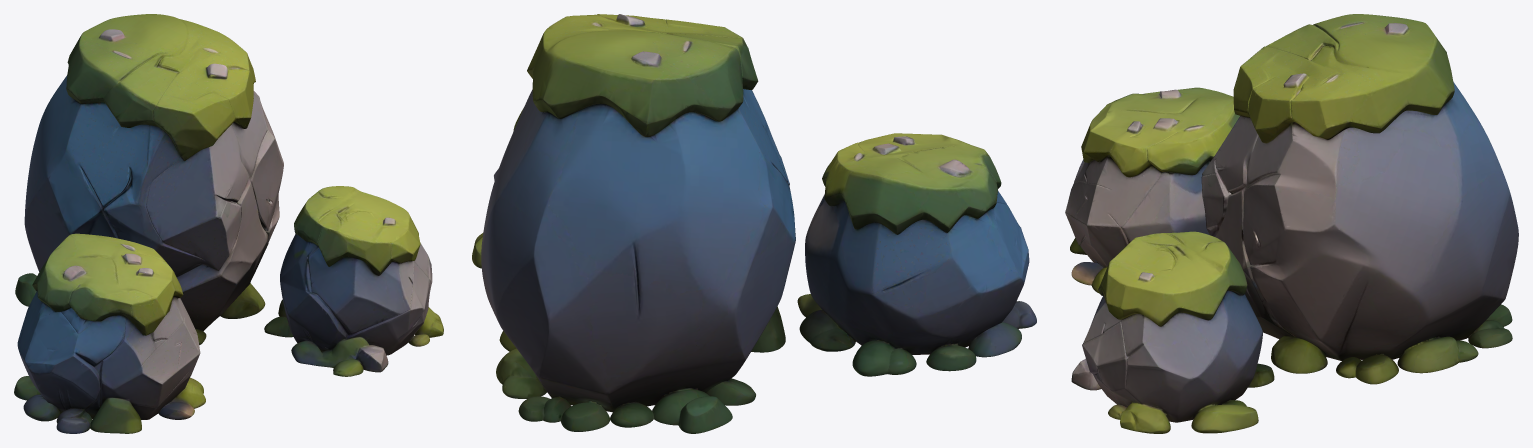
Rendered from rocks.opt.glb.
3 views of the same model, side by side, from view 1: azimuth 30°, elevation 25°; view 2: azimuth 150°, elevation 25°; view 3: azimuth 270°, elevation 25° (orthographic). The views are drawn at different scales.
Visible parts, largest first — view 1: node_0; view 2: node_0; view 3: node_0.
Part boxes in pixels (bbox=[...]): node_0: bbox=[14, 14, 443, 433]; node_0: bbox=[472, 14, 1036, 433]; node_0: bbox=[1065, 14, 1518, 433].
Size of the model in its own units: 0.9124 by 0.5572 by 0.7882.
1 material, 1 textured.
